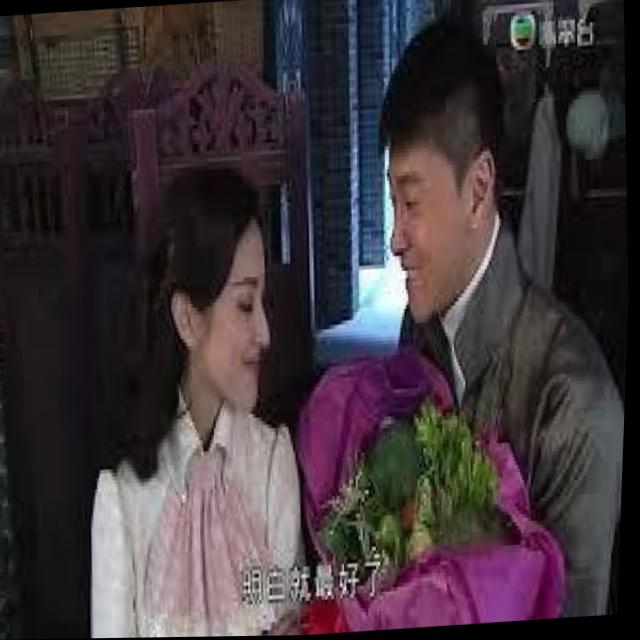Flower: (346, 405, 508, 540)
